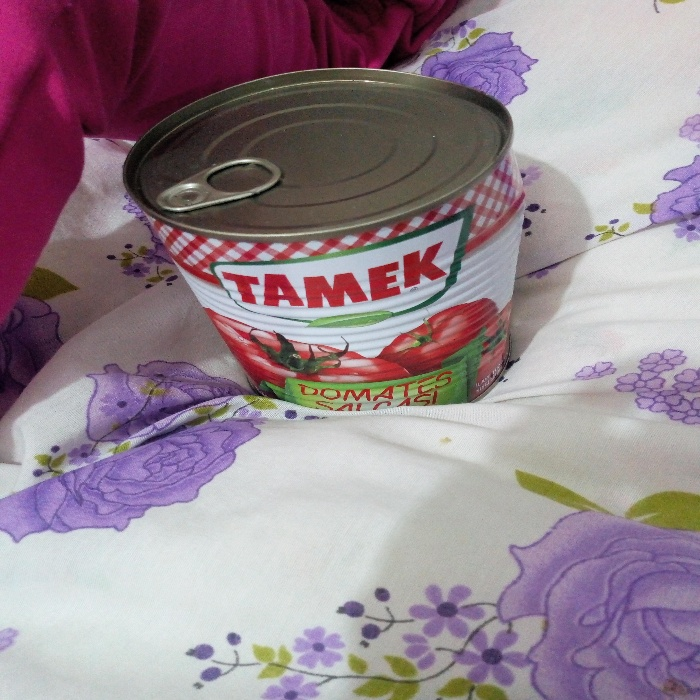salca: (108, 53, 547, 407)
